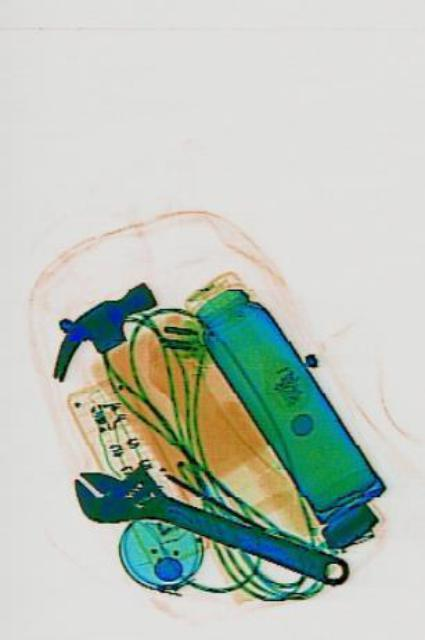Wrench: (66, 444, 351, 610)
